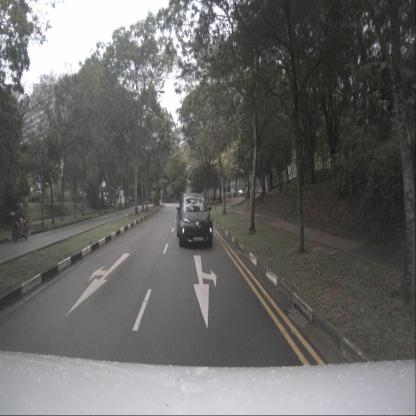vehicle-car: (176, 192, 213, 248)
vehicle-motorcycle: (8, 202, 29, 242)
